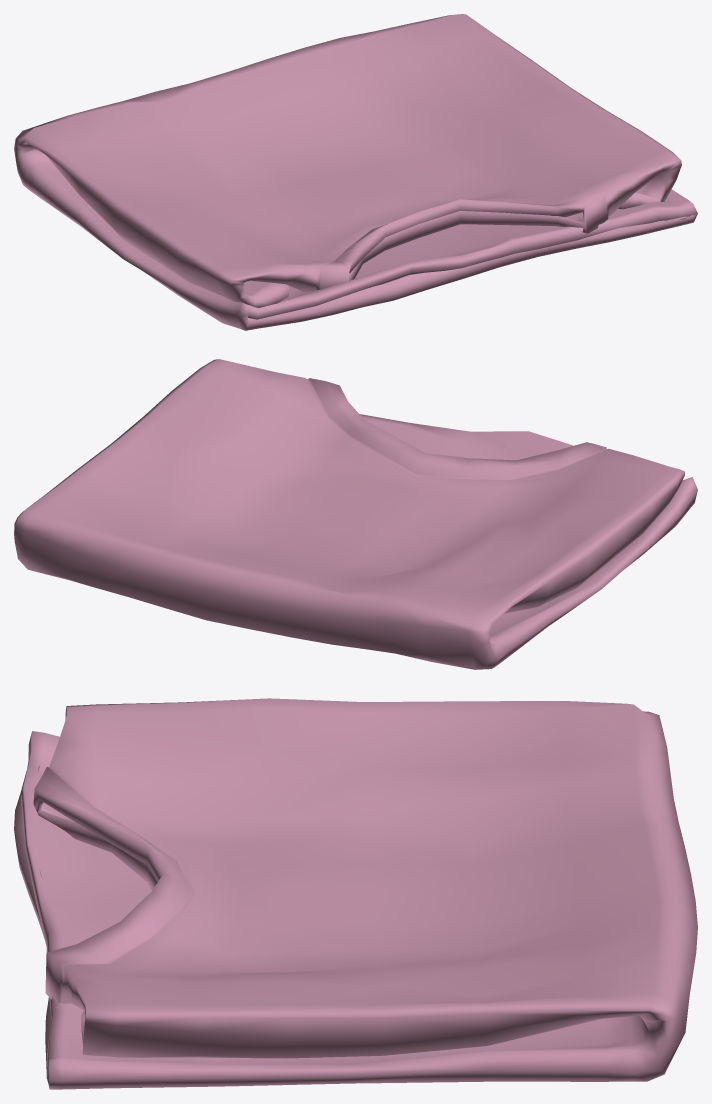
The model's file is Folded_T_Shirt17.fbx.
3 renders of one model, top to bottom at view 1: azimuth 30°, elevation 25°; view 2: azimuth 150°, elevation 25°; view 3: azimuth 270°, elevation 25°, orthographic. The views are drawn at different scales.
Visible parts, largest first — view 1: Folded_T_Shirt17; view 2: Folded_T_Shirt17; view 3: Folded_T_Shirt17.
Boxes of the visible parts, bbox=[...] form: Folded_T_Shirt17: bbox=[14, 14, 697, 330]; Folded_T_Shirt17: bbox=[14, 359, 697, 669]; Folded_T_Shirt17: bbox=[14, 698, 697, 1089].
Size of the model in its own units: 36.95 by 4.2 by 32.8.
